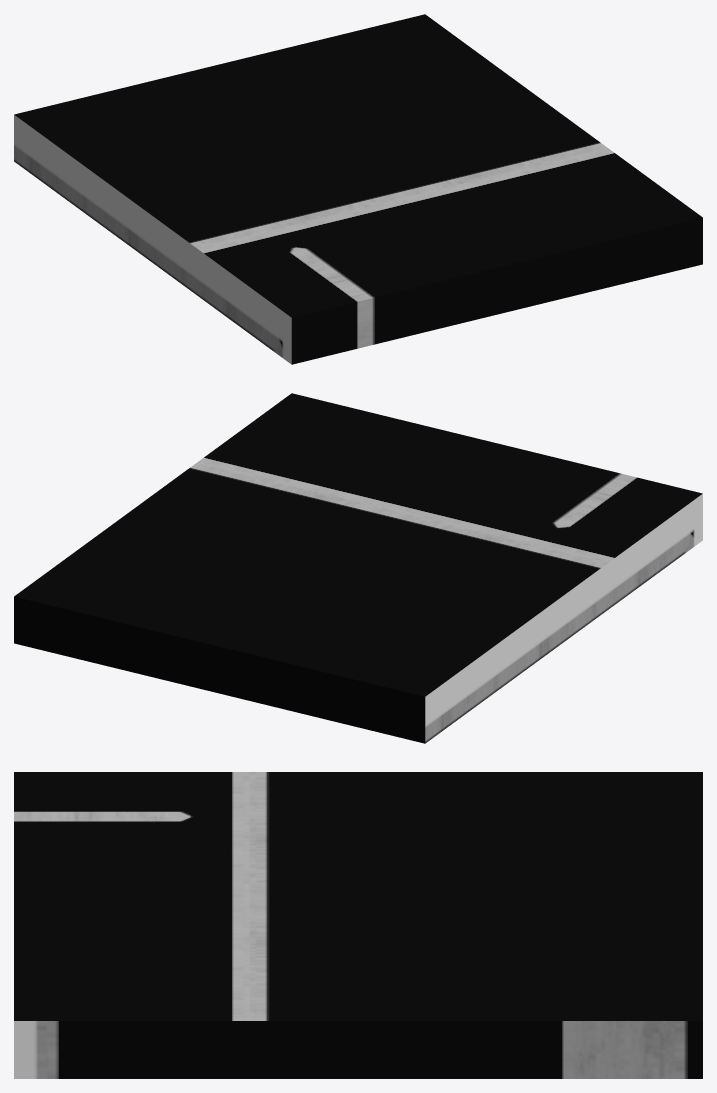
The picture shows the model from 3 angles, top to bottom: view 1: azimuth 30°, elevation 25°; view 2: azimuth 150°, elevation 25°; view 3: azimuth 270°, elevation 25°; orthographic projection. The views are drawn at different scales.
Parts seen in each view (by area): view 1: Cube; view 2: Cube; view 3: Cube.
Boxes of the visible parts, <box> form: Cube: <box>14,14,702,364</box>; Cube: <box>14,393,702,743</box>; Cube: <box>14,772,702,1078</box>.
Size of the model in its own units: 2.44 by 0.2656 by 2.85.
